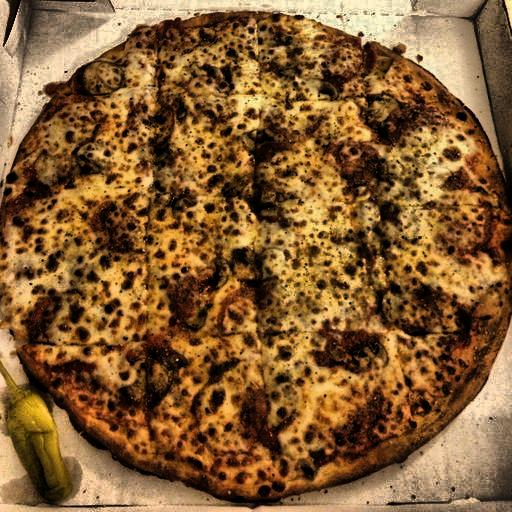pizza: (8, 25, 512, 503)
